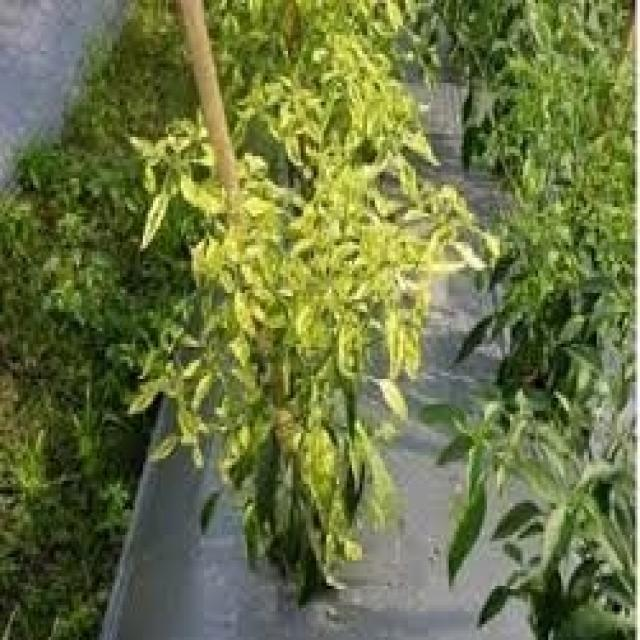virus_kuning: (374, 365, 419, 427), (138, 188, 172, 260)
